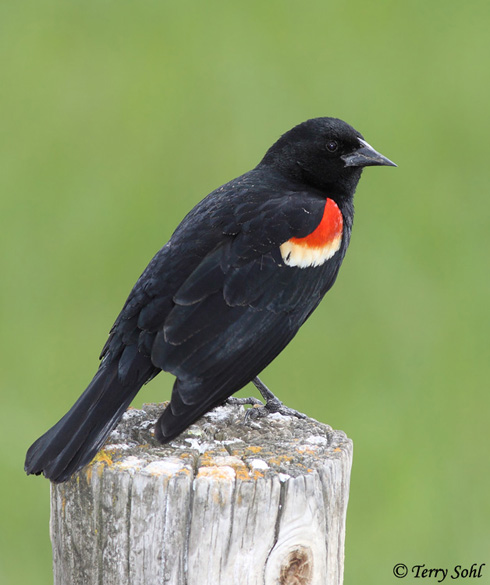bird: (70, 123, 378, 417)
